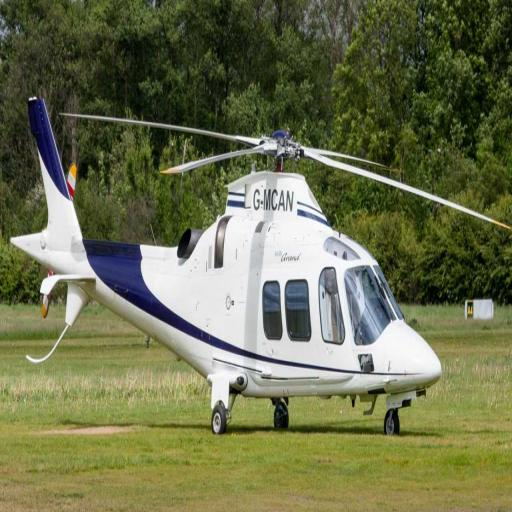helicopter: (11, 83, 477, 446)
